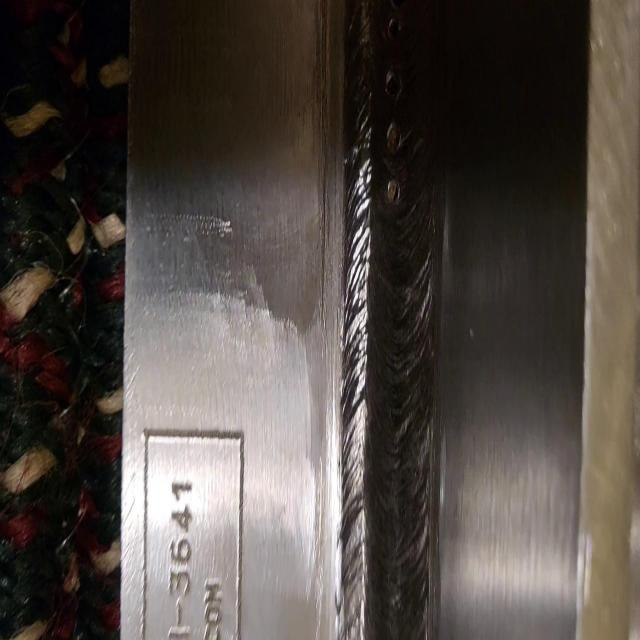Welding Line: (347, 2, 430, 640)
Workpiece: (132, 9, 640, 640)
porosity: (383, 11, 405, 205)
